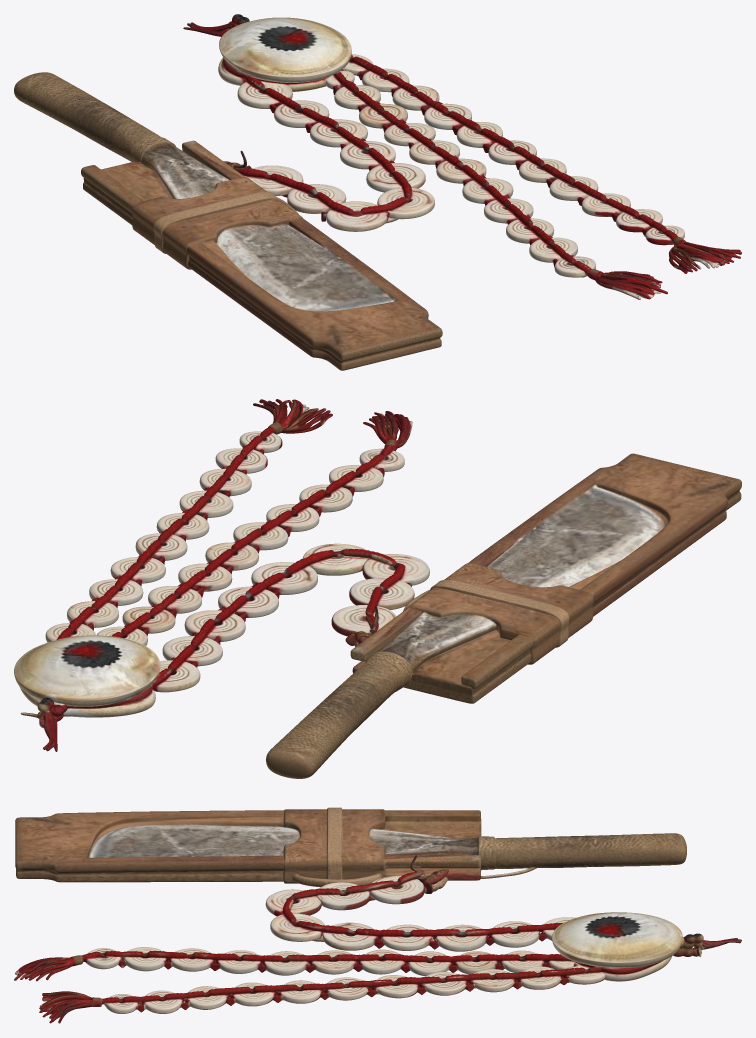
Rendered from ifugao-ginuttu.glb.
The picture shows the model from 3 angles, top to bottom: view 1: azimuth 30°, elevation 25°; view 2: azimuth 150°, elevation 25°; view 3: azimuth 270°, elevation 25°; orthographic projection. The views are drawn at different scales.
Visible parts, largest first — view 1: Mesh_0007; view 2: Mesh_0007; view 3: Mesh_0007.
Part boxes in pixels (x1,y1,x2,y2): Mesh_0007: (14, 14, 741, 370); Mesh_0007: (14, 399, 741, 778); Mesh_0007: (14, 807, 741, 1023).
Bounding box in the file's own units: 0.8 × 0.07 × 1.26.
Materials: 1 (1 with a texture image).
